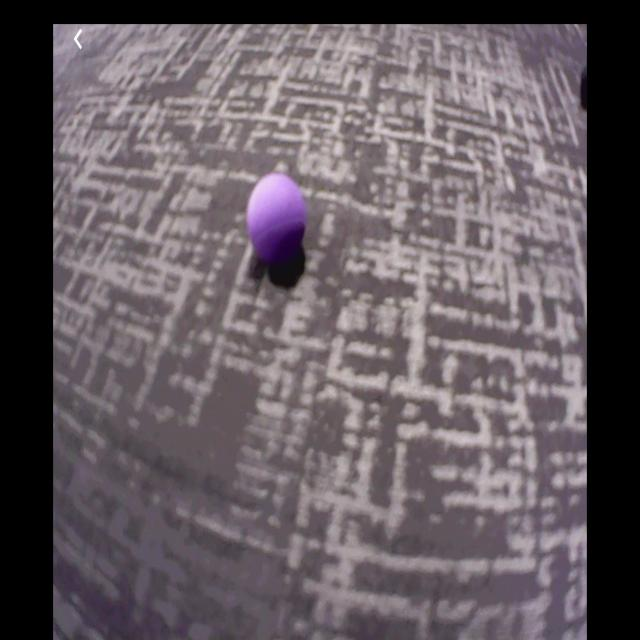ball: (246, 173, 308, 262)
